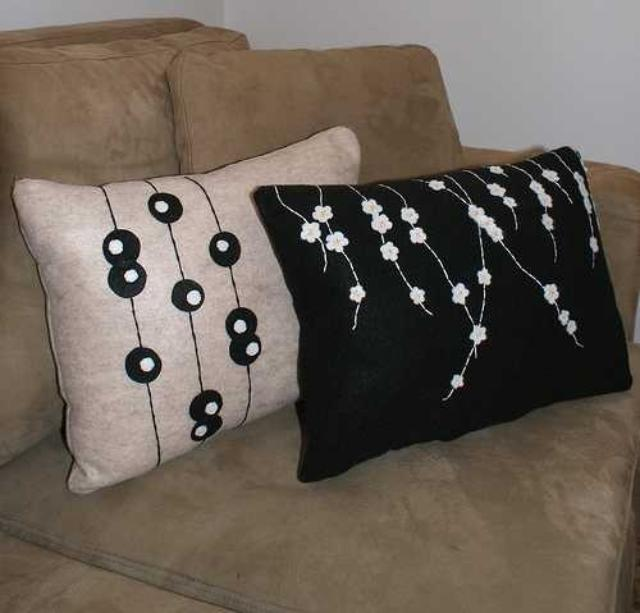pillow: (10, 122, 362, 494), (250, 143, 632, 482)
